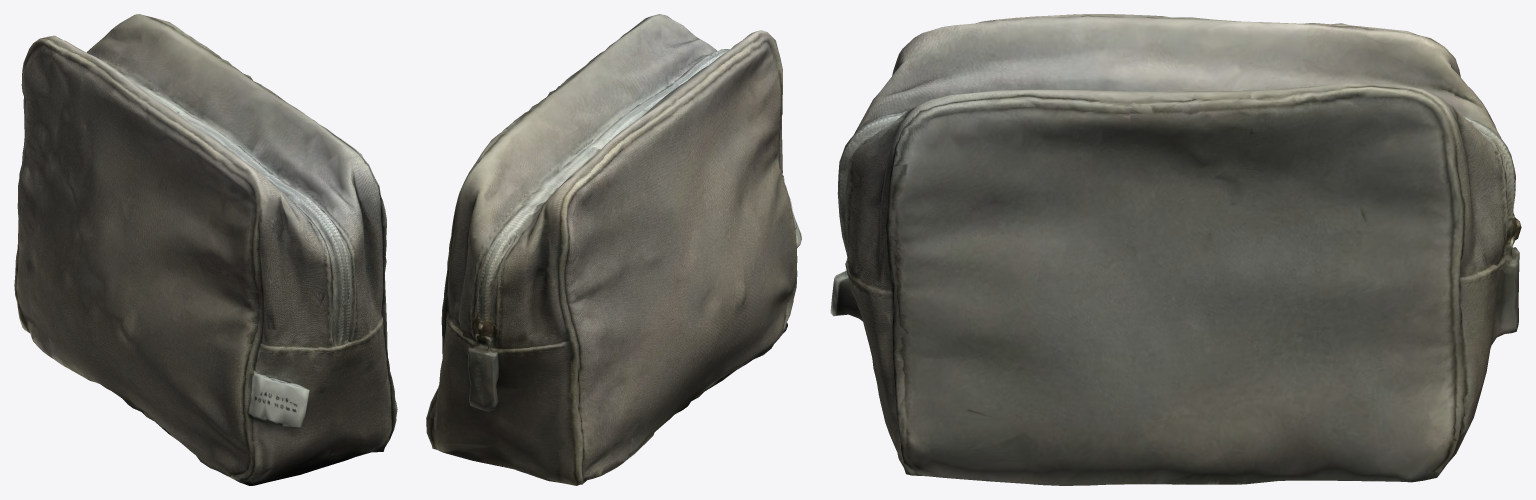
The model's file is asset.glb.
3 renders of one model, left to right at view 1: azimuth 30°, elevation 25°; view 2: azimuth 150°, elevation 25°; view 3: azimuth 270°, elevation 25°, orthographic. The views are drawn at different scales.
Parts seen in each view (by area): view 1: Mesh_0.001; view 2: Mesh_0.001; view 3: Mesh_0.001.
Part boxes in pixels (<box>): Mesh_0.001: <box>14,14,397,485</box>; Mesh_0.001: <box>426,14,801,485</box>; Mesh_0.001: <box>830,14,1521,485</box>.
Size of the model in its own units: 0.4492 by 0.6363 by 1.05.
Materials: 1 (1 with a texture image).
